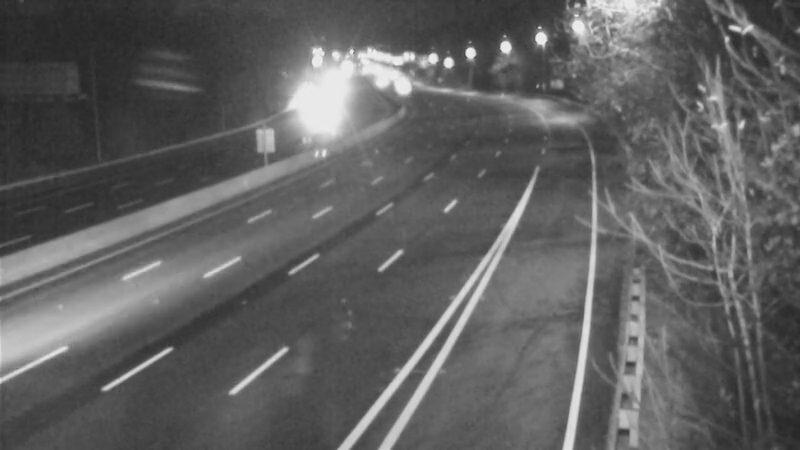vehicle: (380, 63, 430, 113)
